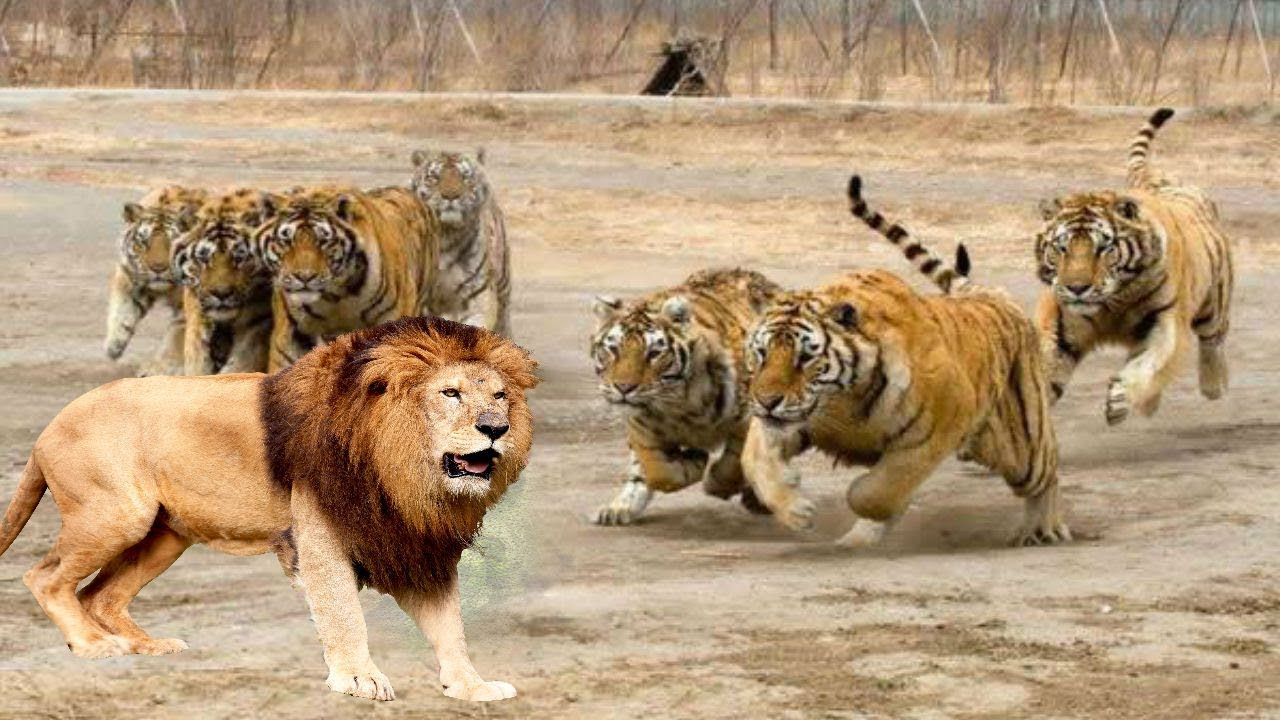lion: (6, 326, 554, 720)
tiger: (730, 266, 1086, 548), (1028, 180, 1236, 420), (590, 250, 760, 520), (266, 172, 424, 358), (396, 132, 508, 342), (178, 190, 280, 370), (102, 190, 196, 352)
